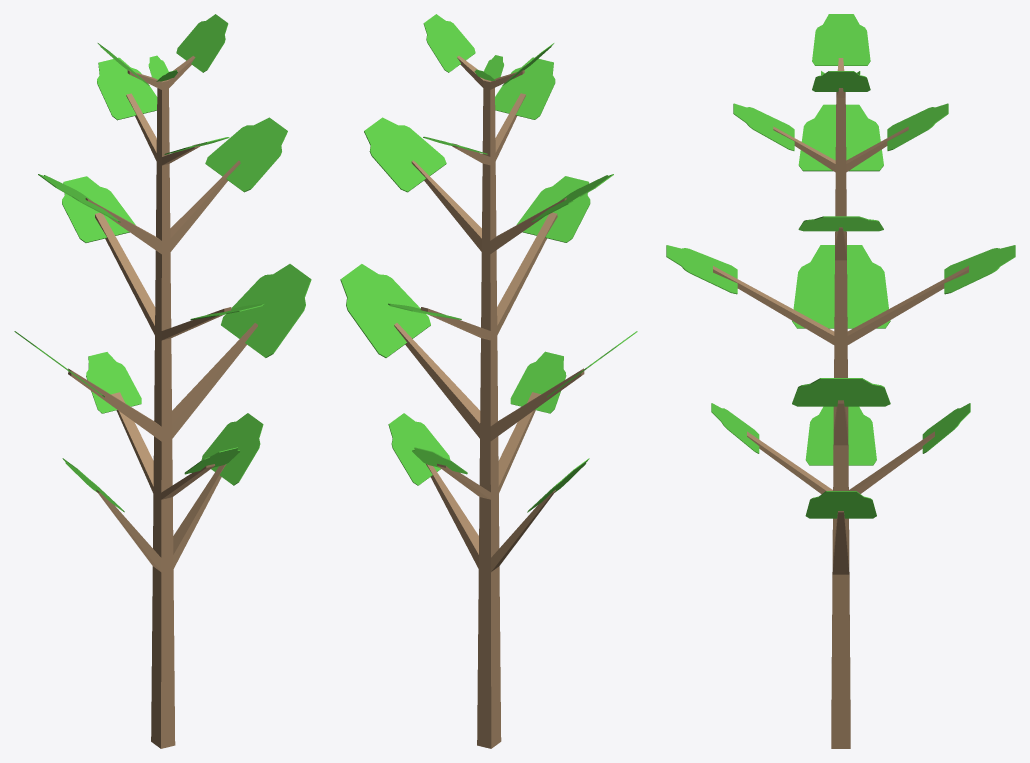
The model's file is Foliage_Sapling2.fbx.
3 renders of one model, left to right at view 1: azimuth 30°, elevation 25°; view 2: azimuth 150°, elevation 25°; view 3: azimuth 270°, elevation 25°, orthographic.
Parts seen in each view (by area): view 1: Cube.001; view 2: Cube.001; view 3: Cube.001.
Part boxes in pixels (bbox=[...]): Cube.001: bbox=[14, 14, 311, 748]; Cube.001: bbox=[340, 14, 637, 748]; Cube.001: bbox=[666, 14, 1015, 748].
Bounding box in the file's own units: 103 × 253 × 114.
